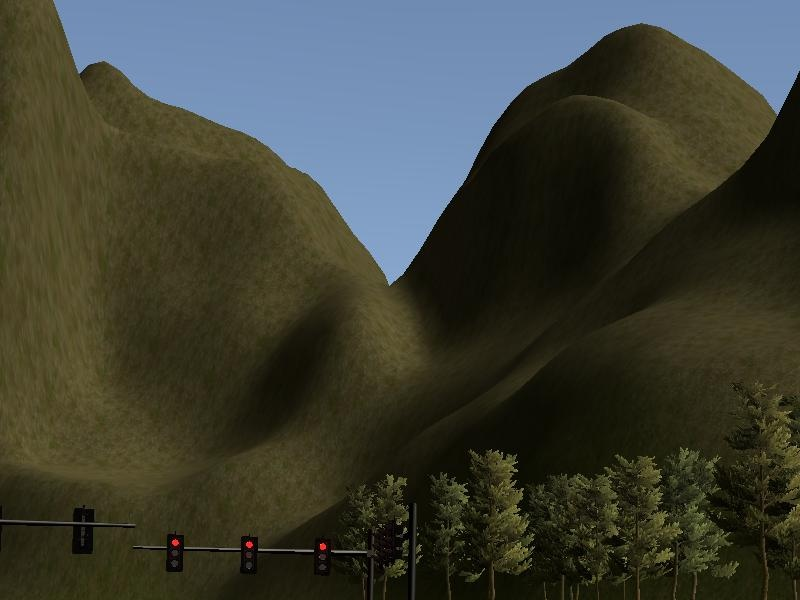Red: (166, 533, 184, 573), (240, 536, 258, 576), (313, 537, 331, 577)
